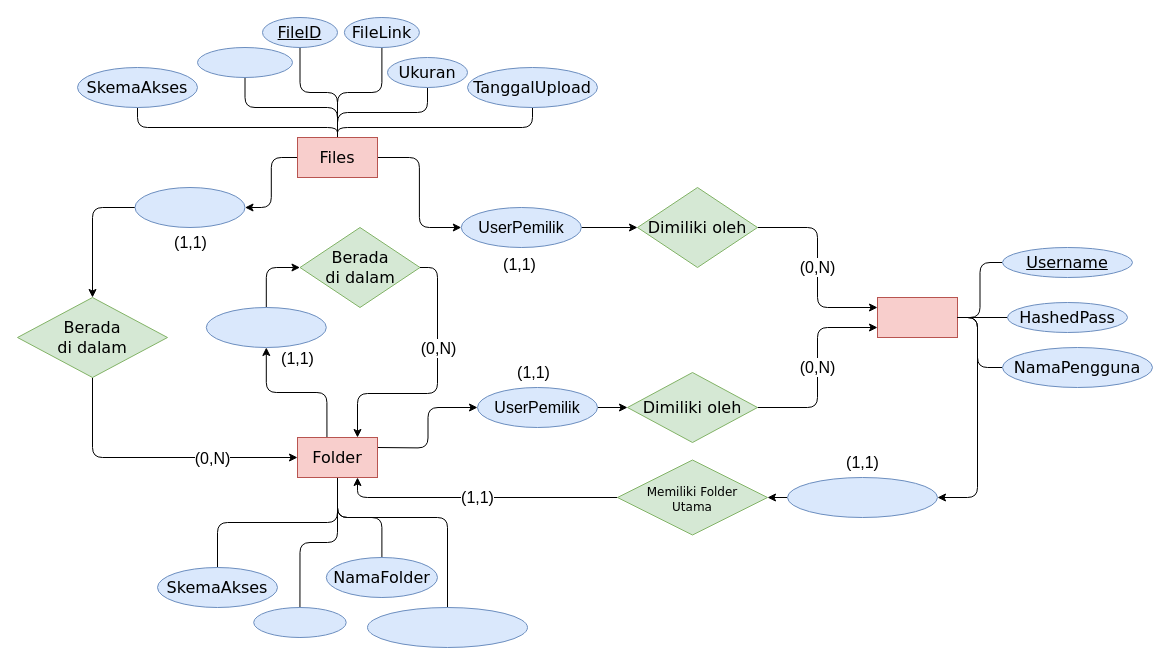
Some shapes in this 1170 by 665 pixel diagram are drawn without their labels. Each missing label, with the centre of its shape:
DirectoryID: the point at 189,207
FolderID: the point at 299,622
NamaFile: the point at 244,62
PersonalFolder: the point at 862,497
RootFolderID: the point at 265,327
TanggalPembuatan: the point at 447,627
User: the point at 917,317
